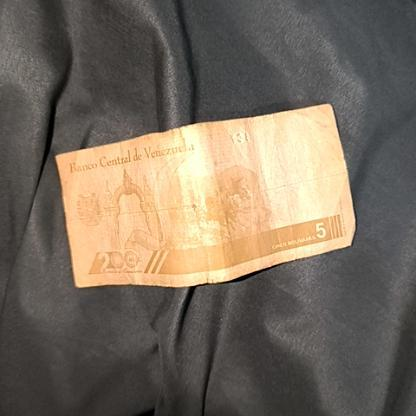five-back-vef: (55, 100, 358, 290)
